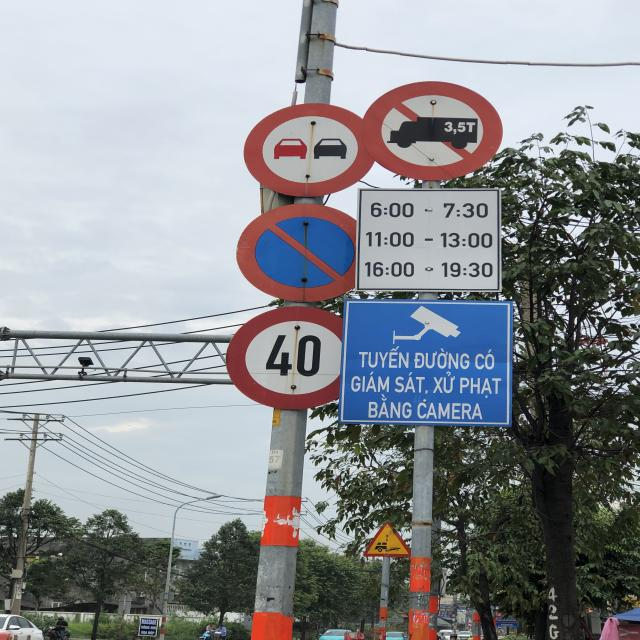Bien bao cam vuot: (238, 101, 379, 197)
